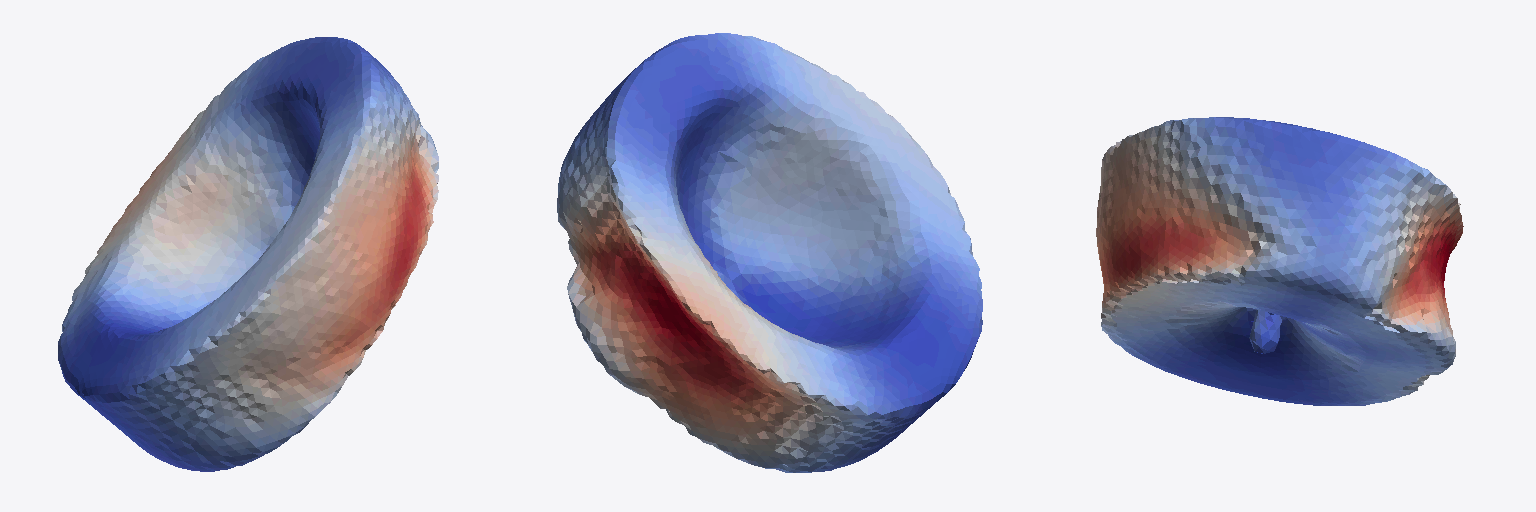
The model's file is colored_model.obj.
3 views of the same model, side by side, from view 1: azimuth 30°, elevation 25°; view 2: azimuth 150°, elevation 25°; view 3: azimuth 270°, elevation 25° (orthographic).
Bounding box in the file's own units: 14.64 × 14.24 × 12.93.